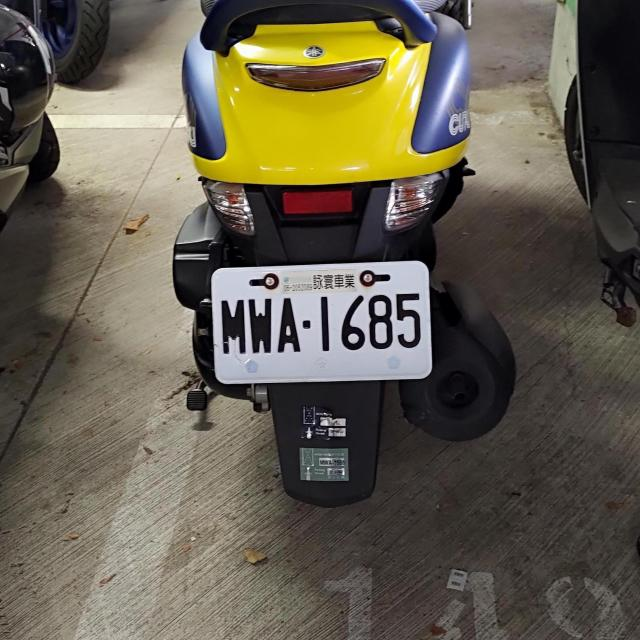W: (212, 262, 432, 383)
